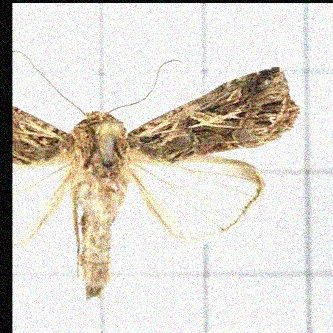Spodoptera litura: (12, 50, 301, 301)
